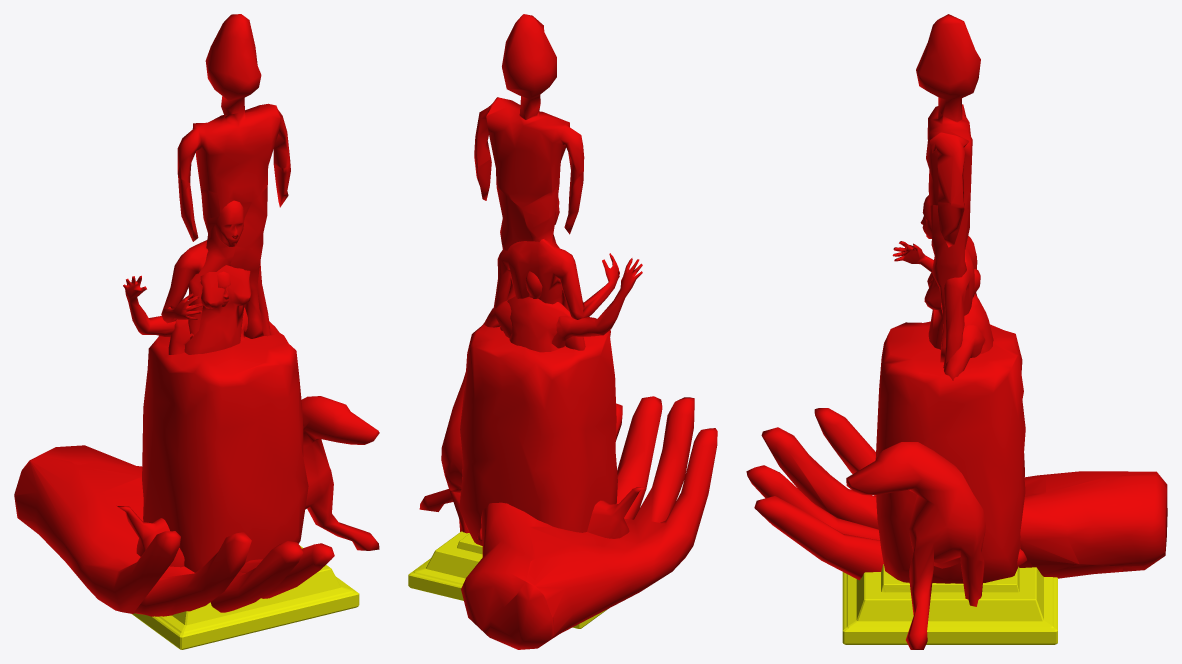
Rendered from statue_shards_grp.fbx.
3 views of the same model, side by side, from view 1: azimuth 30°, elevation 25°; view 2: azimuth 150°, elevation 25°; view 3: azimuth 270°, elevation 25° (orthographic). The views are drawn at different scales.
Visible parts, largest first — view 1: stone_statue_shard_4, hand_statue_shard_13, stone_statue_shard_7, stone_statue_shard_3, waving_statue_shard_10, stone_statue_shard_2, dog_statue_shard_10, stone_statue_shard_13, dog_statue_shard_8, towel_statue_shard_1, hand_statue_shard_5, towel_statue_shard_3 (+17 smaller); view 2: stone_statue_shard_7, hand_statue_shard_13, stone_statue_shard_3, hand_statue_shard_11, stone_statue_shard_2, stone_statue_shard_4, hand_statue_shard_12, stone_statue_shard_5, waving_statue_shard_10, fertility_statue_shard_8, towel_statue_shard_8, hand_statue_shard_9 (+21 smaller); view 3: stone_statue_shard_7, hand_statue_shard_11, waving_statue_shard_10, hand_statue_shard_13, dog_statue_shard_10, stone_statue_shard_2, dog_statue_shard_8, hand_statue_shard_8, dog_statue_shard_2, stone_statue_shard_13, stone_statue_shard_3, stone_statue_shard_1 (+14 smaller).
Boxes of the visible parts, x1,y1,x2,y2 form: stone_statue_shard_4: (158, 347, 287, 572); hand_statue_shard_13: (15, 456, 297, 616); stone_statue_shard_7: (142, 332, 308, 572); stone_statue_shard_3: (177, 104, 280, 203); waving_statue_shard_10: (140, 545, 359, 649); stone_statue_shard_2: (205, 14, 261, 115); dog_statue_shard_10: (301, 396, 379, 460); stone_statue_shard_13: (229, 187, 267, 338); dog_statue_shard_8: (304, 447, 379, 550); towel_statue_shard_1: (185, 297, 250, 354); hand_statue_shard_5: (196, 538, 249, 597); towel_statue_shard_3: (162, 265, 251, 316); stone_statue_shard_7: (459, 325, 610, 545); hand_statue_shard_13: (526, 478, 694, 643); stone_statue_shard_3: (486, 98, 584, 207); hand_statue_shard_11: (461, 502, 534, 629); stone_statue_shard_2: (502, 14, 556, 119); stone_statue_shard_4: (583, 330, 617, 504); hand_statue_shard_12: (481, 580, 553, 649); stone_statue_shard_5: (553, 348, 595, 448); waving_statue_shard_10: (408, 531, 482, 600); fertility_statue_shard_8: (500, 296, 563, 352); towel_statue_shard_8: (495, 241, 549, 301); hand_statue_shard_9: (617, 396, 662, 479); stone_statue_shard_7: (875, 336, 1025, 583); hand_statue_shard_11: (1020, 473, 1166, 566); waving_statue_shard_10: (842, 567, 1057, 644); hand_statue_shard_13: (819, 471, 1154, 580); dog_statue_shard_10: (846, 442, 963, 514); stone_statue_shard_2: (916, 14, 980, 121); dog_statue_shard_8: (906, 510, 946, 649); hand_statue_shard_8: (754, 496, 861, 559); dog_statue_shard_2: (932, 492, 979, 572); stone_statue_shard_13: (930, 205, 970, 362); stone_statue_shard_3: (926, 104, 972, 211); stone_statue_shard_1: (929, 132, 968, 205).
Bounding box in the file's own units: 29.7 × 59.63 × 38.05.
